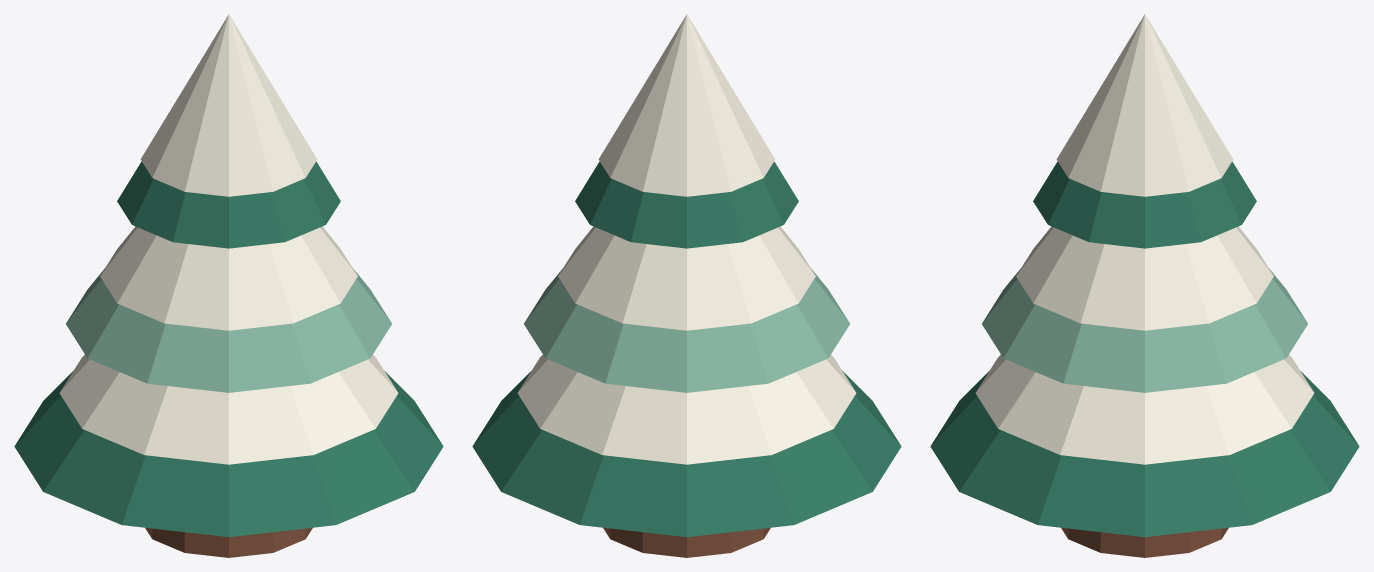
Rendered from fir_b.glb.
3 renders of one model, left to right at view 1: azimuth 30°, elevation 25°; view 2: azimuth 150°, elevation 25°; view 3: azimuth 270°, elevation 25°, orthographic.
Visible parts, largest first — view 1: snowy-fir; view 2: snowy-fir; view 3: snowy-fir.
Part boxes in pixels (bbox=[...]): snowy-fir: bbox=[14, 14, 443, 557]; snowy-fir: bbox=[472, 14, 901, 557]; snowy-fir: bbox=[930, 14, 1359, 557].
Bounding box in the file's own units: 1.84 × 2.4 × 1.84.
